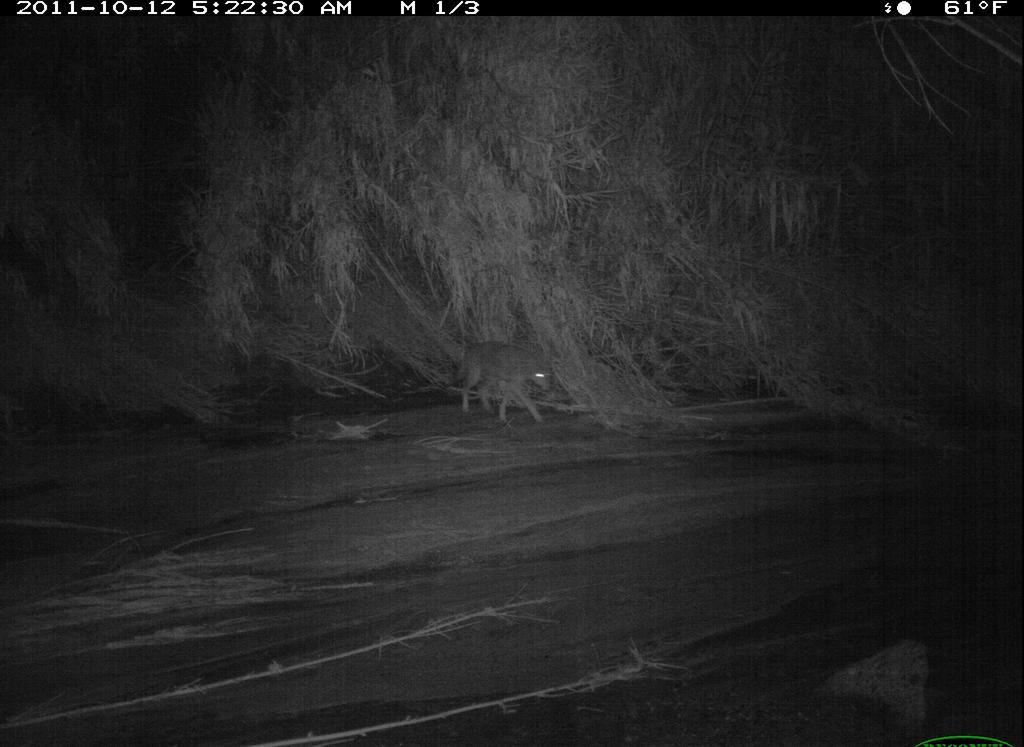coyote: (447, 336, 569, 433)
